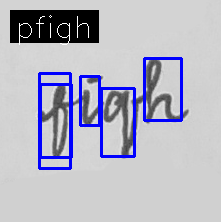f: (48, 80, 71, 160)
h: (140, 55, 178, 125)
i: (77, 72, 99, 127)
q: (101, 88, 132, 152)
